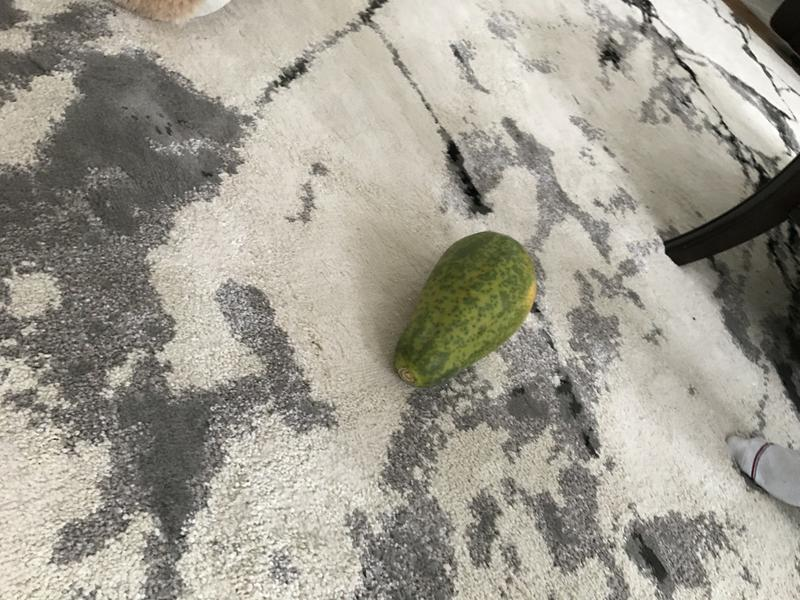papaya: (386, 228, 545, 391)
